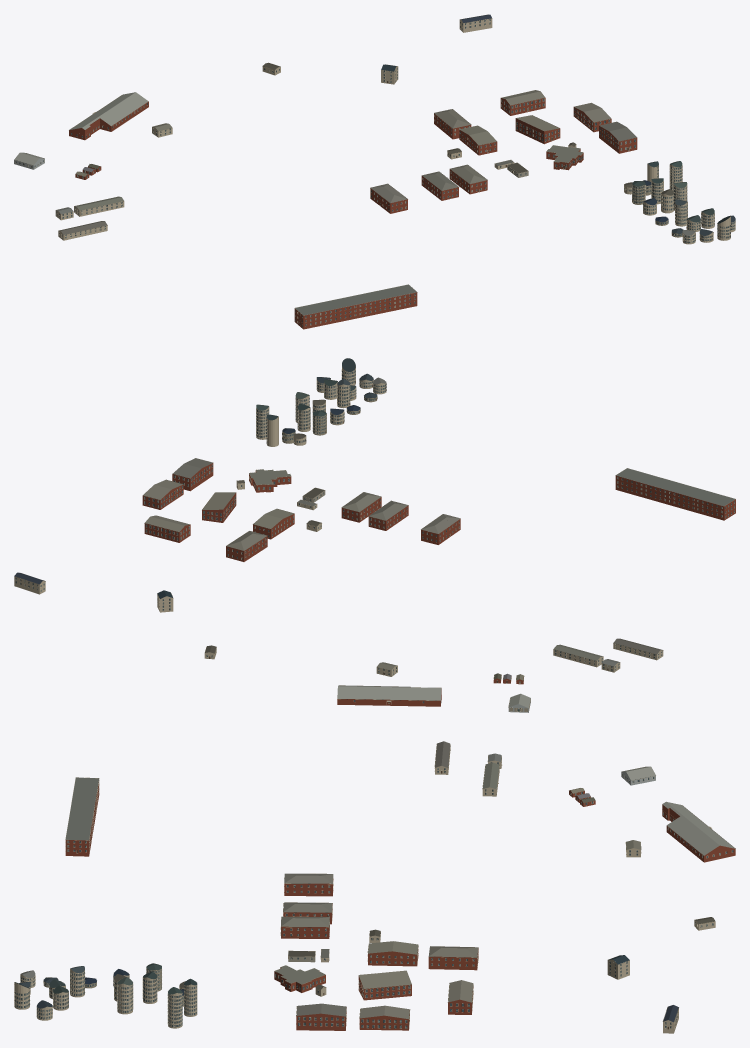
The picture shows the model from 3 angles, top to bottom: view 1: azimuth 30°, elevation 25°; view 2: azimuth 150°, elevation 25°; view 3: azimuth 270°, elevation 25°; orthographic projection. The views are drawn at different scales.
Parts seen in each view (by area): view 1: -6_0_271662479_0, -6_0_271924509_27; view 2: -6_0_271662479_0, -6_0_271924509_27; view 3: -6_0_271662479_0, -6_0_271924509_27.
Boxes of the visible parts, x1,y1,x2,y2 form: -6_0_271662479_0: (14,14,735,329); -6_0_271924509_27: (55,18,735,244); -6_0_271662479_0: (14,358,735,711); -6_0_271924509_27: (14,366,663,676); -6_0_271662479_0: (14,741,735,1030); -6_0_271924509_27: (14,747,715,1033).
Size of the model in its own units: 520 by 38.03 by 529.
